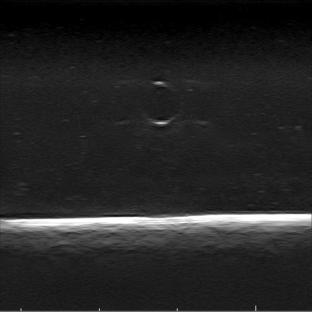vessel: (136, 81, 184, 127)
